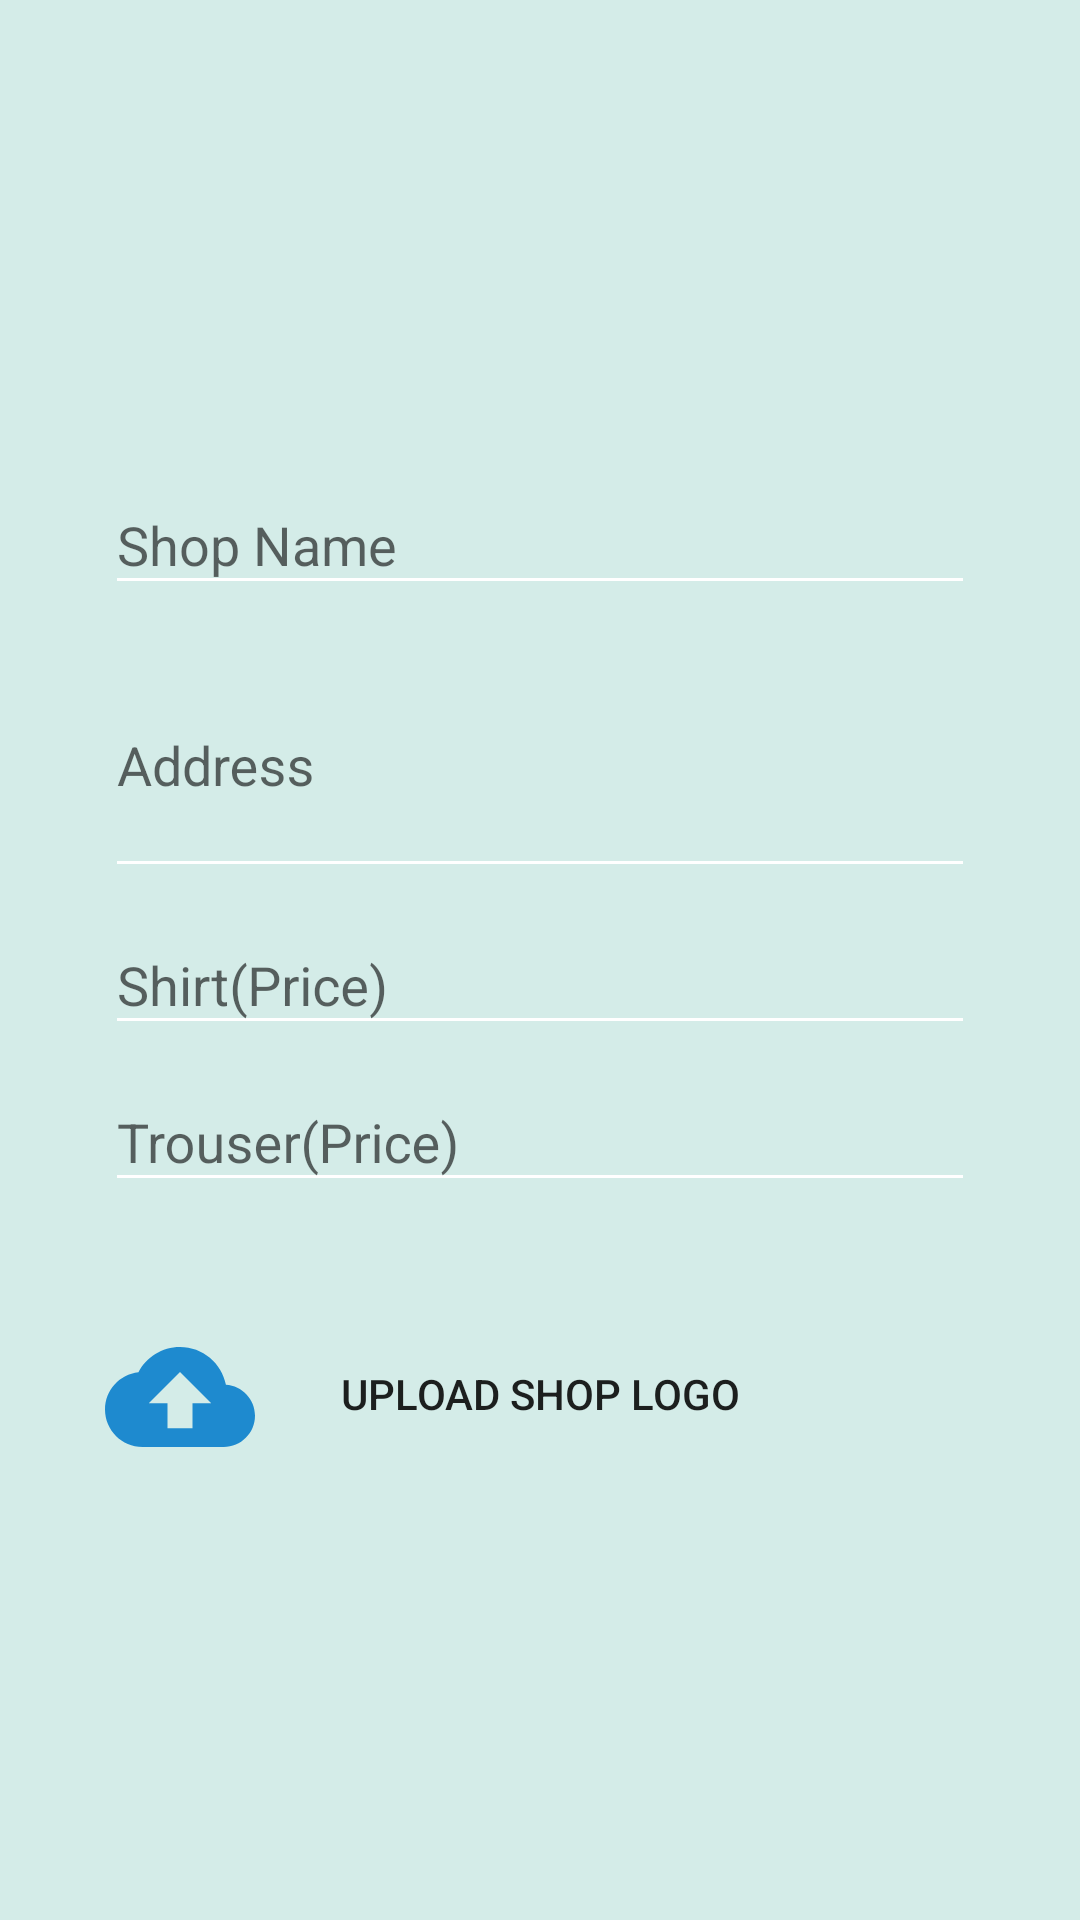

Icon click points for this 1080 × 1920 phone screenshot, format [x,y]:
cloud upload: [180,1397]
